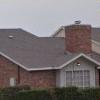Chimney: (58, 14, 100, 60)
